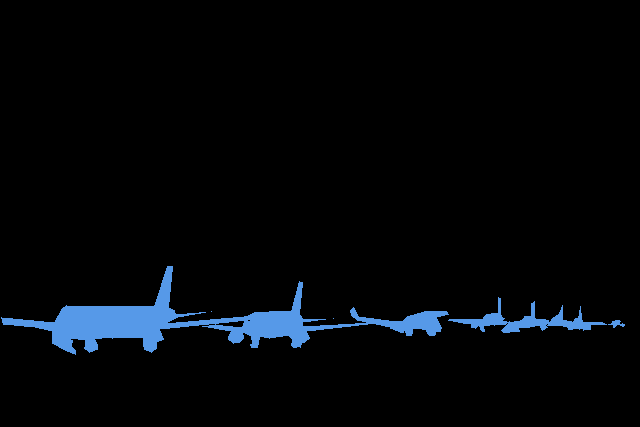Airplane: (1, 266, 257, 354), (202, 281, 376, 348), (350, 307, 449, 335), (448, 297, 507, 331), (501, 301, 549, 332), (563, 306, 606, 330), (547, 305, 571, 326), (606, 320, 625, 327)
